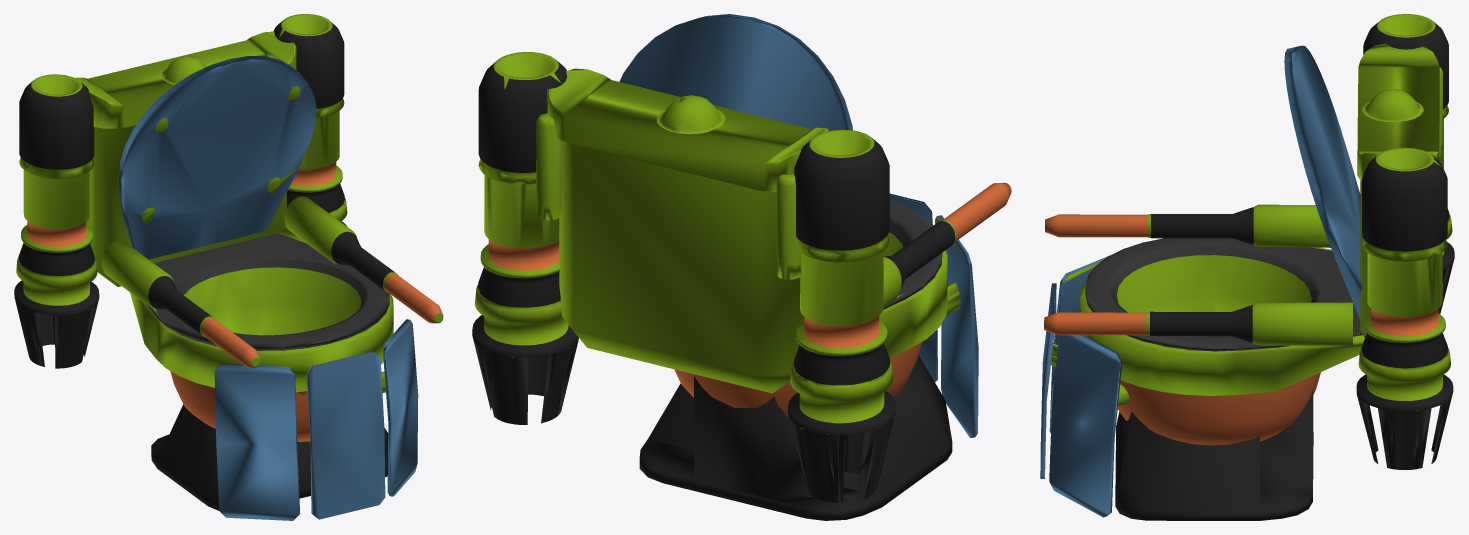
Rendered from toilet_04.glb.
The picture shows the model from 3 angles, left to right: view 1: azimuth 30°, elevation 25°; view 2: azimuth 150°, elevation 25°; view 3: azimuth 270°, elevation 25°; orthographic projection. The views are drawn at different scales.
Visible parts, largest first — view 1: toilet_04; view 2: toilet_04; view 3: toilet_04.
Part boxes in pixels (x1,y1,x2,y2): toilet_04: [14, 14, 443, 520]; toilet_04: [472, 14, 1011, 520]; toilet_04: [1040, 14, 1454, 520].
Bounding box in the file's own units: 1.26 × 1.4 × 1.27.
